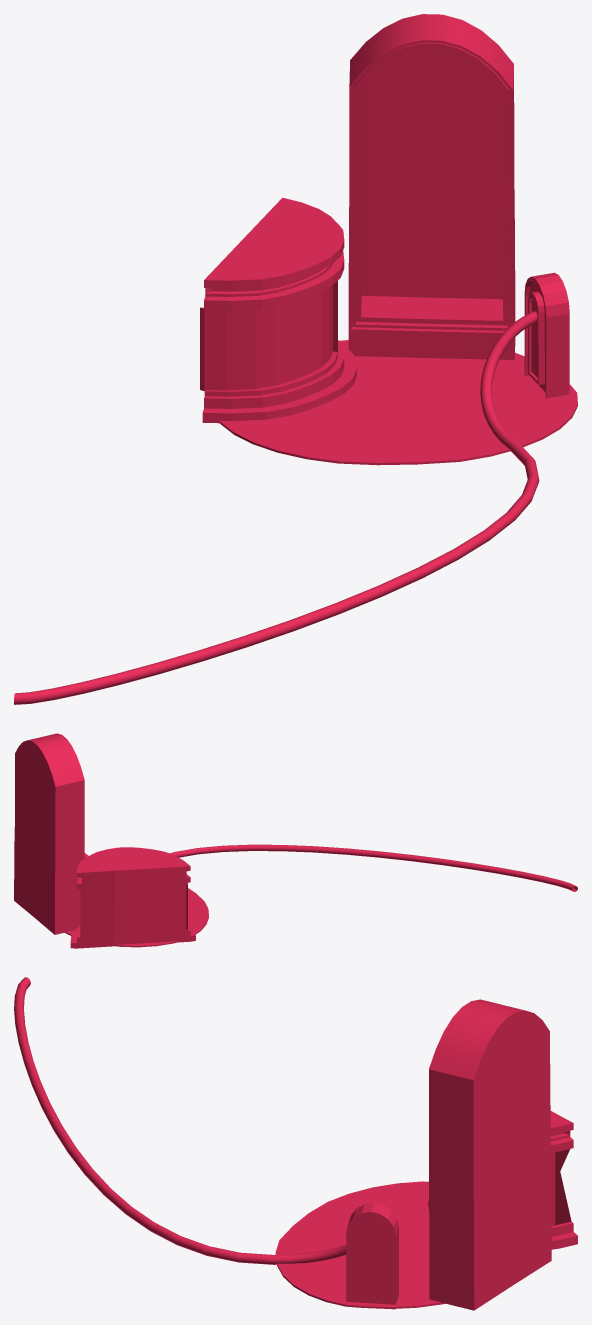
The model's file is InteriorExterno.fbx.
3 renders of one model, top to bottom at view 1: azimuth 30°, elevation 25°; view 2: azimuth 150°, elevation 25°; view 3: azimuth 270°, elevation 25°, orthographic. The views are drawn at different scales.
Visible parts, largest first — view 1: ParedesPrincipais.002, cabinet, Circle.002, BézierCurve.008, Cylinder.076; view 2: ParedesPrincipais.002, cabinet, BézierCurve.008, Circle.002; view 3: ParedesPrincipais.002, Circle.002, BézierCurve.008, Cylinder.076, cabinet.
Part boxes in pixels (x1,y1,x2,y2): ParedesPrincipais.002: [348, 14, 515, 359]; cabinet: [200, 197, 356, 423]; Circle.002: [219, 340, 577, 465]; BézierCurve.008: [14, 311, 539, 704]; Cylinder.076: [524, 272, 569, 398]; ParedesPrincipais.002: [14, 733, 84, 934]; cabinet: [70, 847, 195, 948]; BézierCurve.008: [84, 844, 577, 891]; Circle.002: [65, 888, 208, 947]; ParedesPrincipais.002: [429, 999, 551, 1310]; Circle.002: [275, 1181, 444, 1308]; BézierCurve.008: [14, 977, 346, 1264]; Cylinder.076: [346, 1203, 398, 1309]; cabinet: [428, 1111, 577, 1249].
Bounding box in the file's own units: 756 × 305 × 567.
